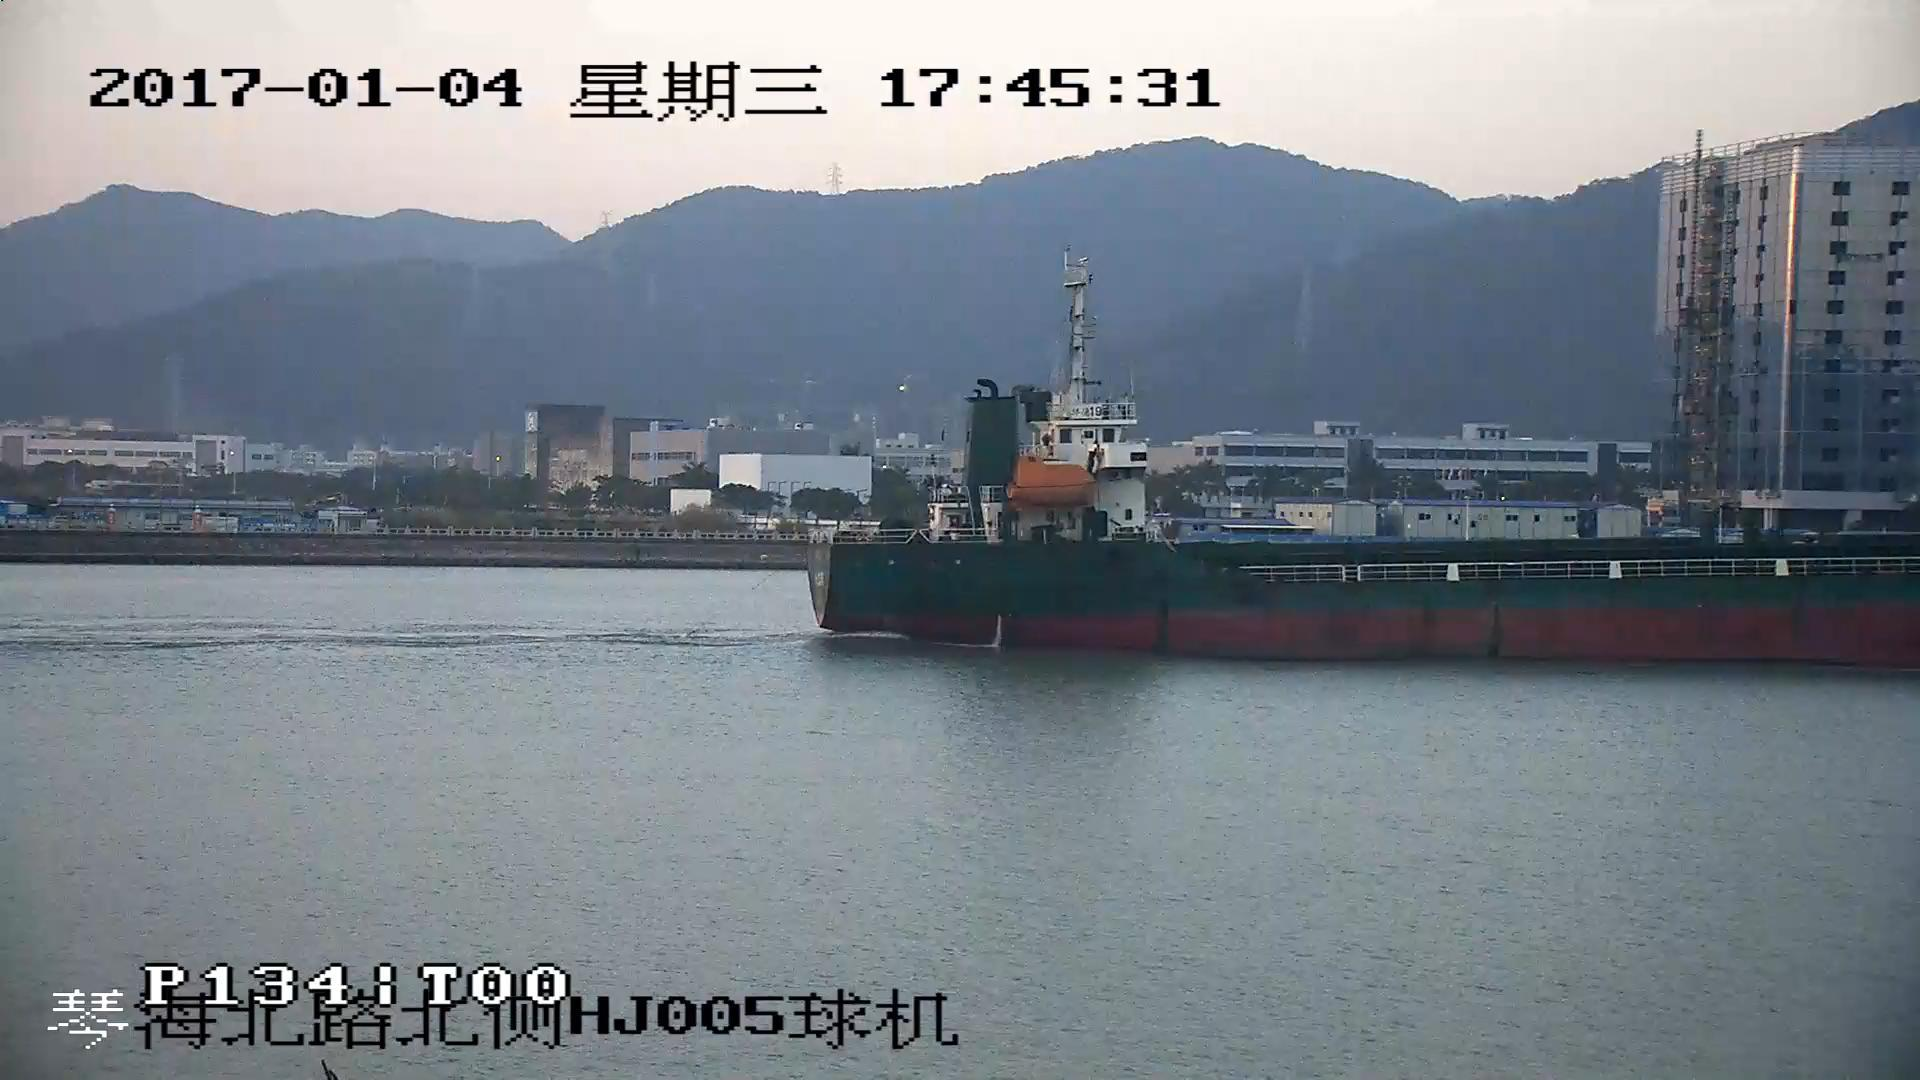Ship: (807, 252, 1920, 676)
